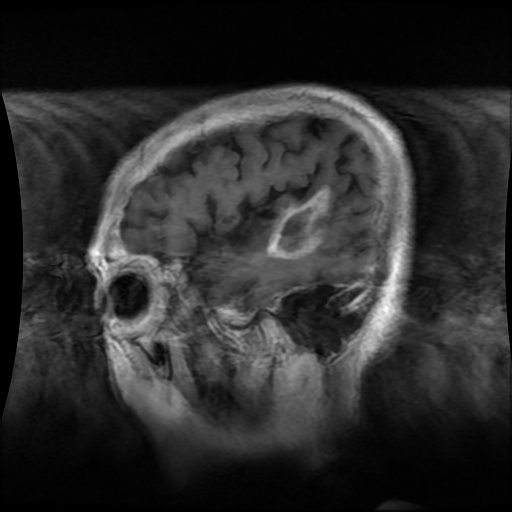glioma: (266, 183, 332, 259)
